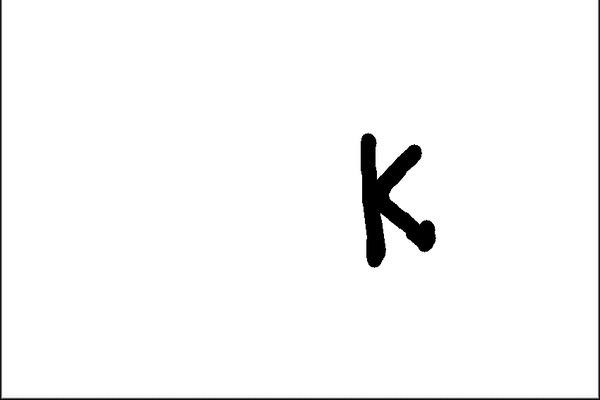K: (349, 128, 444, 277)
